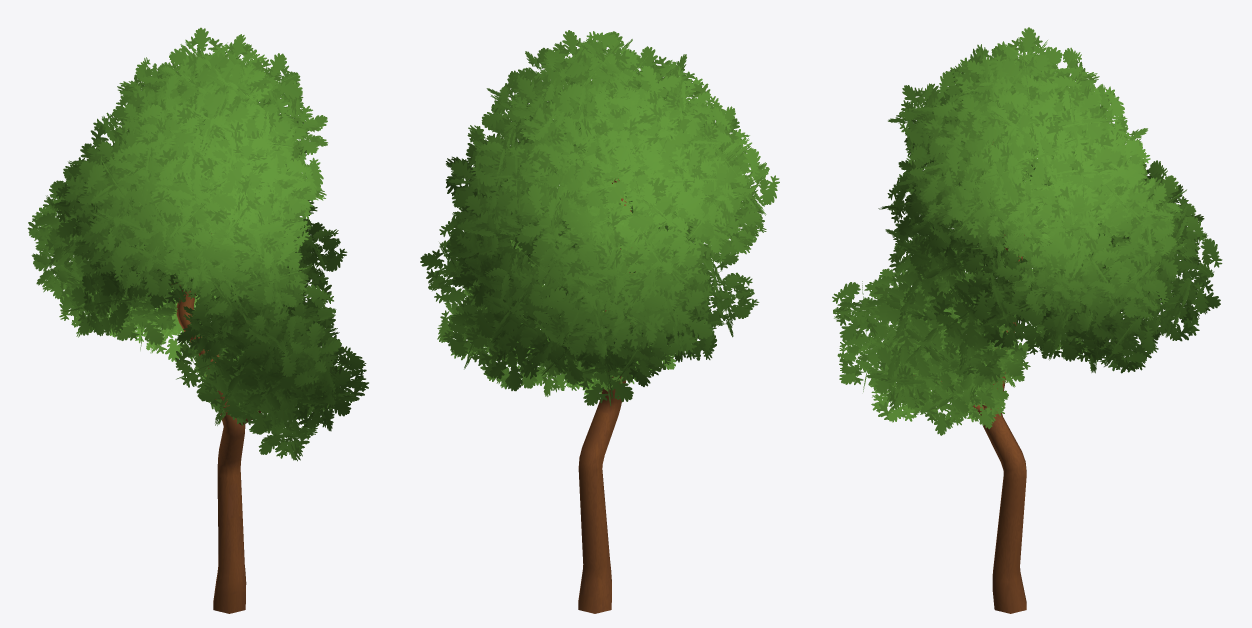
The model's file is oak_01.glb.
The picture shows the model from 3 angles, left to right: view 1: azimuth 30°, elevation 25°; view 2: azimuth 150°, elevation 25°; view 3: azimuth 270°, elevation 25°; orthographic projection. The views are drawn at different scales.
Parts seen in each view (by area): view 1: oak_01; view 2: oak_01; view 3: oak_01.
Part boxes in pixels (<box>): oak_01: <box>27,27,368,613</box>; oak_01: <box>420,30,779,613</box>; oak_01: <box>832,27,1222,613</box>.
Bounding box in the file's own units: 11.63 × 21.8 × 14.23.
2 materials, 2 textured.
